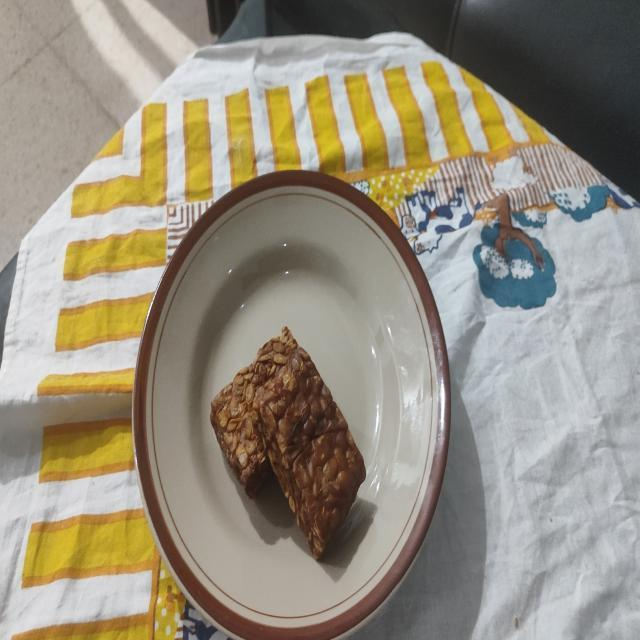tempe_goreng: (250, 347, 366, 560), (210, 326, 300, 499)
